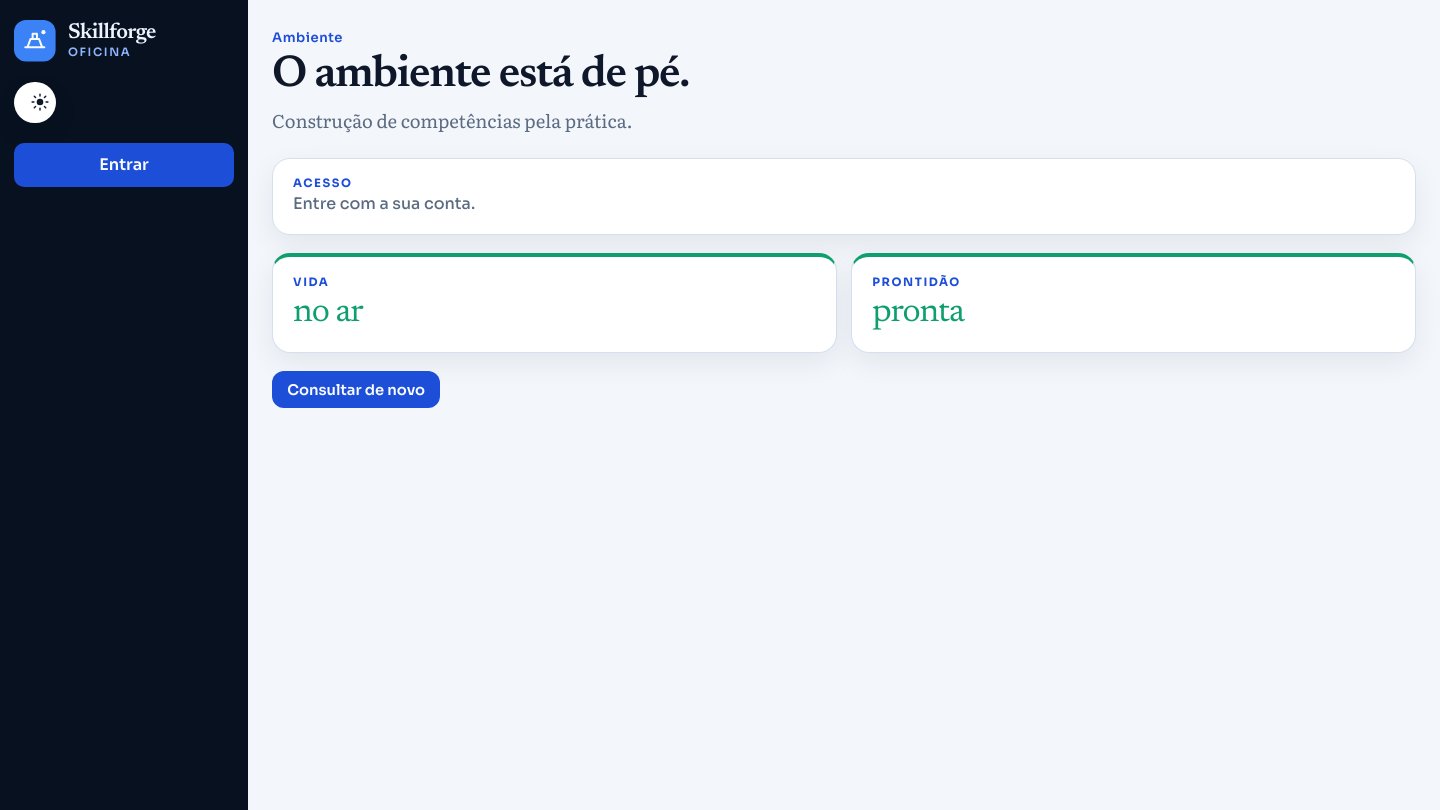
SkillforgeHome › reads the probes again when asked
Expected: the heading "O ambiente está de pé." is shown, [272, 53, 689, 98]
What coordinates should you click on to do the following:
click the button "Consultar de novo"
I would click on:
 (356, 390)
Its box is [272, 371, 440, 408].
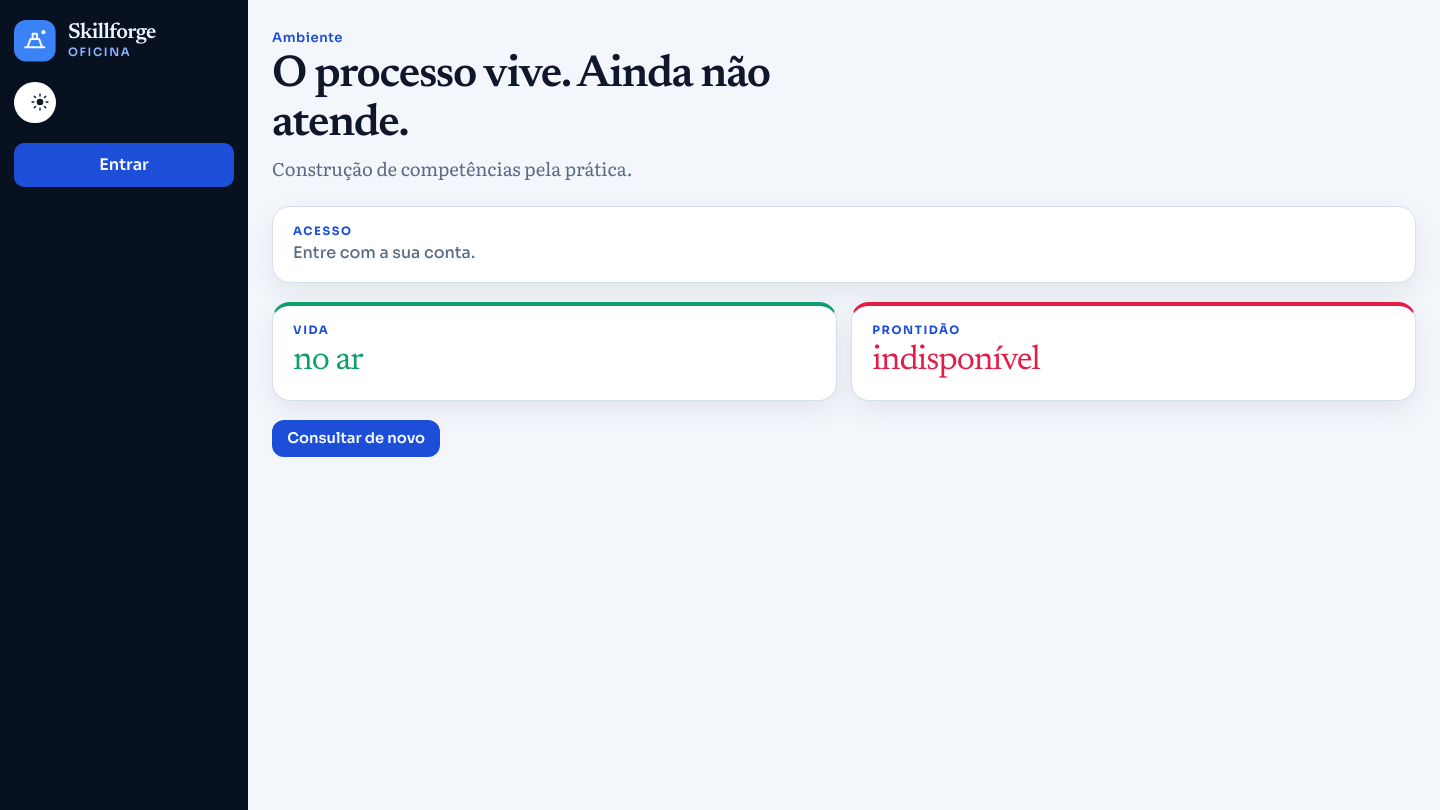
Result: the heading "O processo vive. Ainda não atende." is shown at [272, 53, 770, 147]
